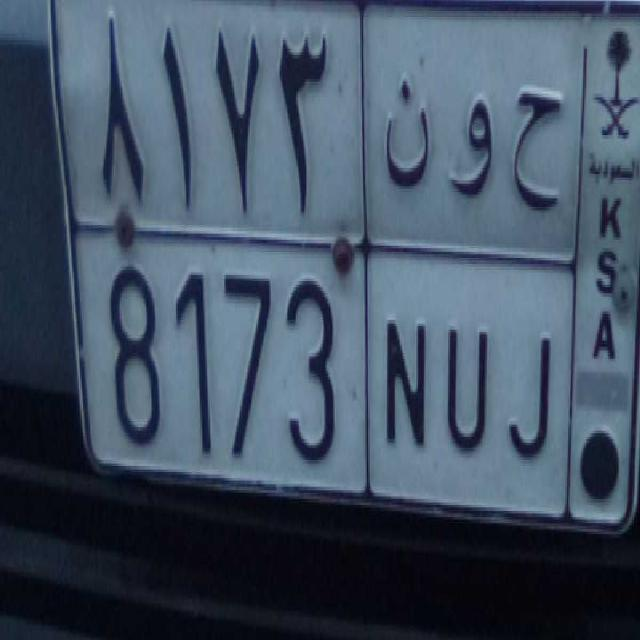license_plate: (90, 229, 568, 533)
